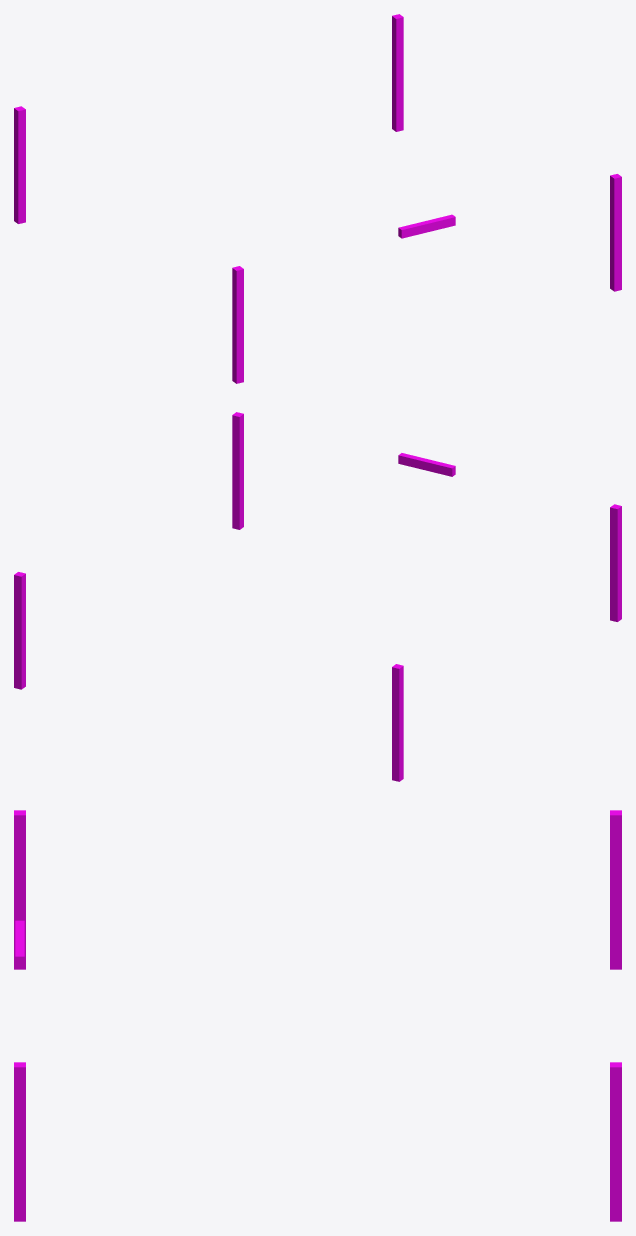
File: accent-skin-11.glb
The picture shows the model from 3 angles, top to bottom: view 1: azimuth 30°, elevation 25°; view 2: azimuth 150°, elevation 25°; view 3: azimuth 270°, elevation 25°; orthographic projection. The views are drawn at different scales.
Visible parts, largest first — view 1: accent-skin-11; view 2: accent-skin-11; view 3: accent-skin-11.
Boxes of the visible parts, x1,y1,x2,y2 form: accent-skin-11: [14, 14, 621, 383]; accent-skin-11: [14, 412, 621, 781]; accent-skin-11: [14, 810, 621, 1221].
Bounding box in the file's own units: 14.28 × 4 × 14.28.
1 material, 1 textured.
